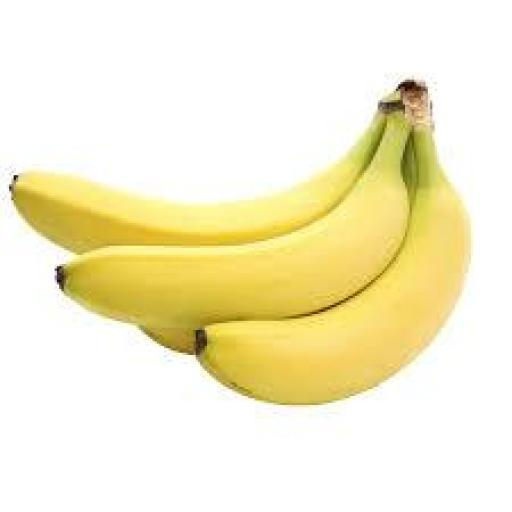banana: (196, 123, 471, 405), (60, 112, 409, 327), (12, 114, 384, 252)
